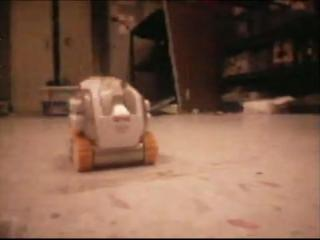cozmo: (66, 75, 158, 172)
